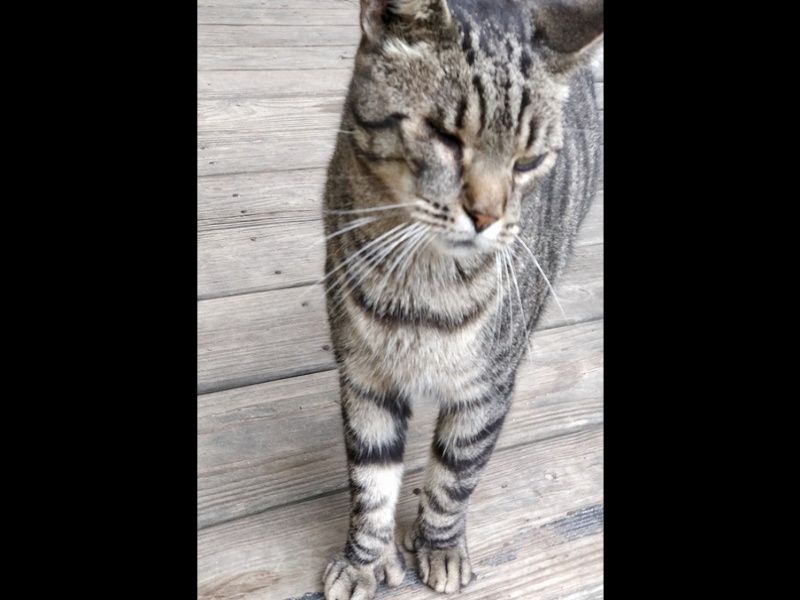cat: (310, 3, 600, 599)
